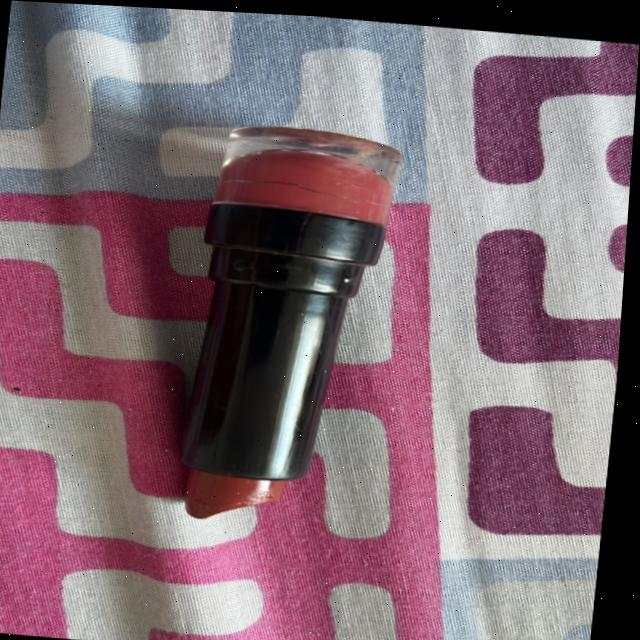lip stick: (128, 96, 462, 567)
